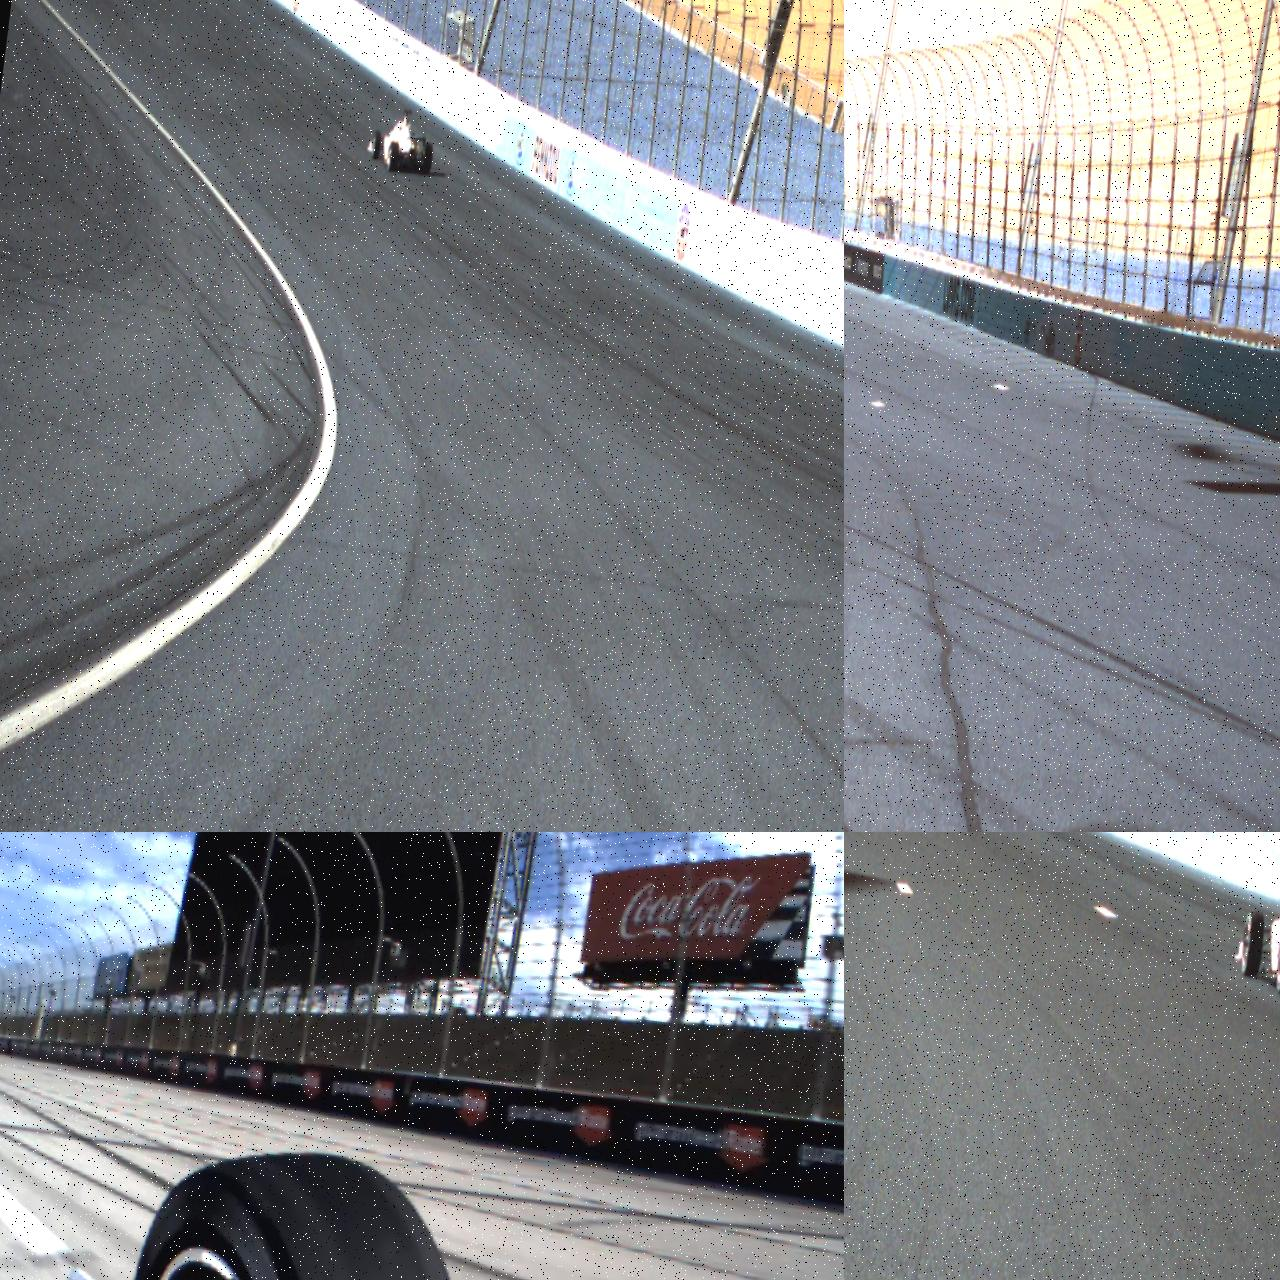AV: (1228, 847, 1280, 1007), (365, 104, 438, 177)
Wheel: (93, 1132, 504, 1280), (1239, 910, 1266, 978), (1272, 920, 1280, 995), (386, 141, 401, 171), (422, 143, 434, 173), (370, 130, 382, 159)
